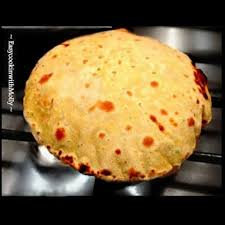roti: (28, 27, 213, 183)
